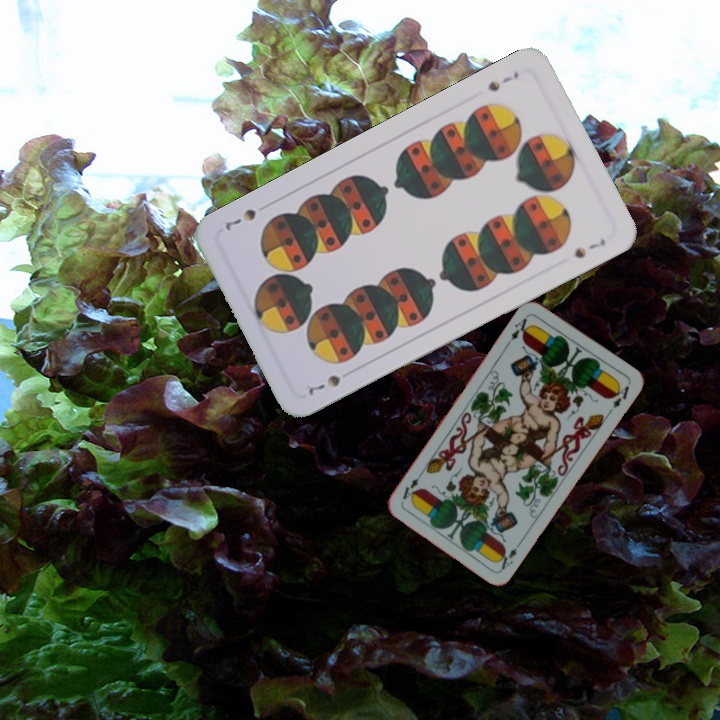EA: (493, 537, 524, 572), (503, 311, 533, 347)
S7: (303, 370, 343, 398), (484, 67, 522, 94)
